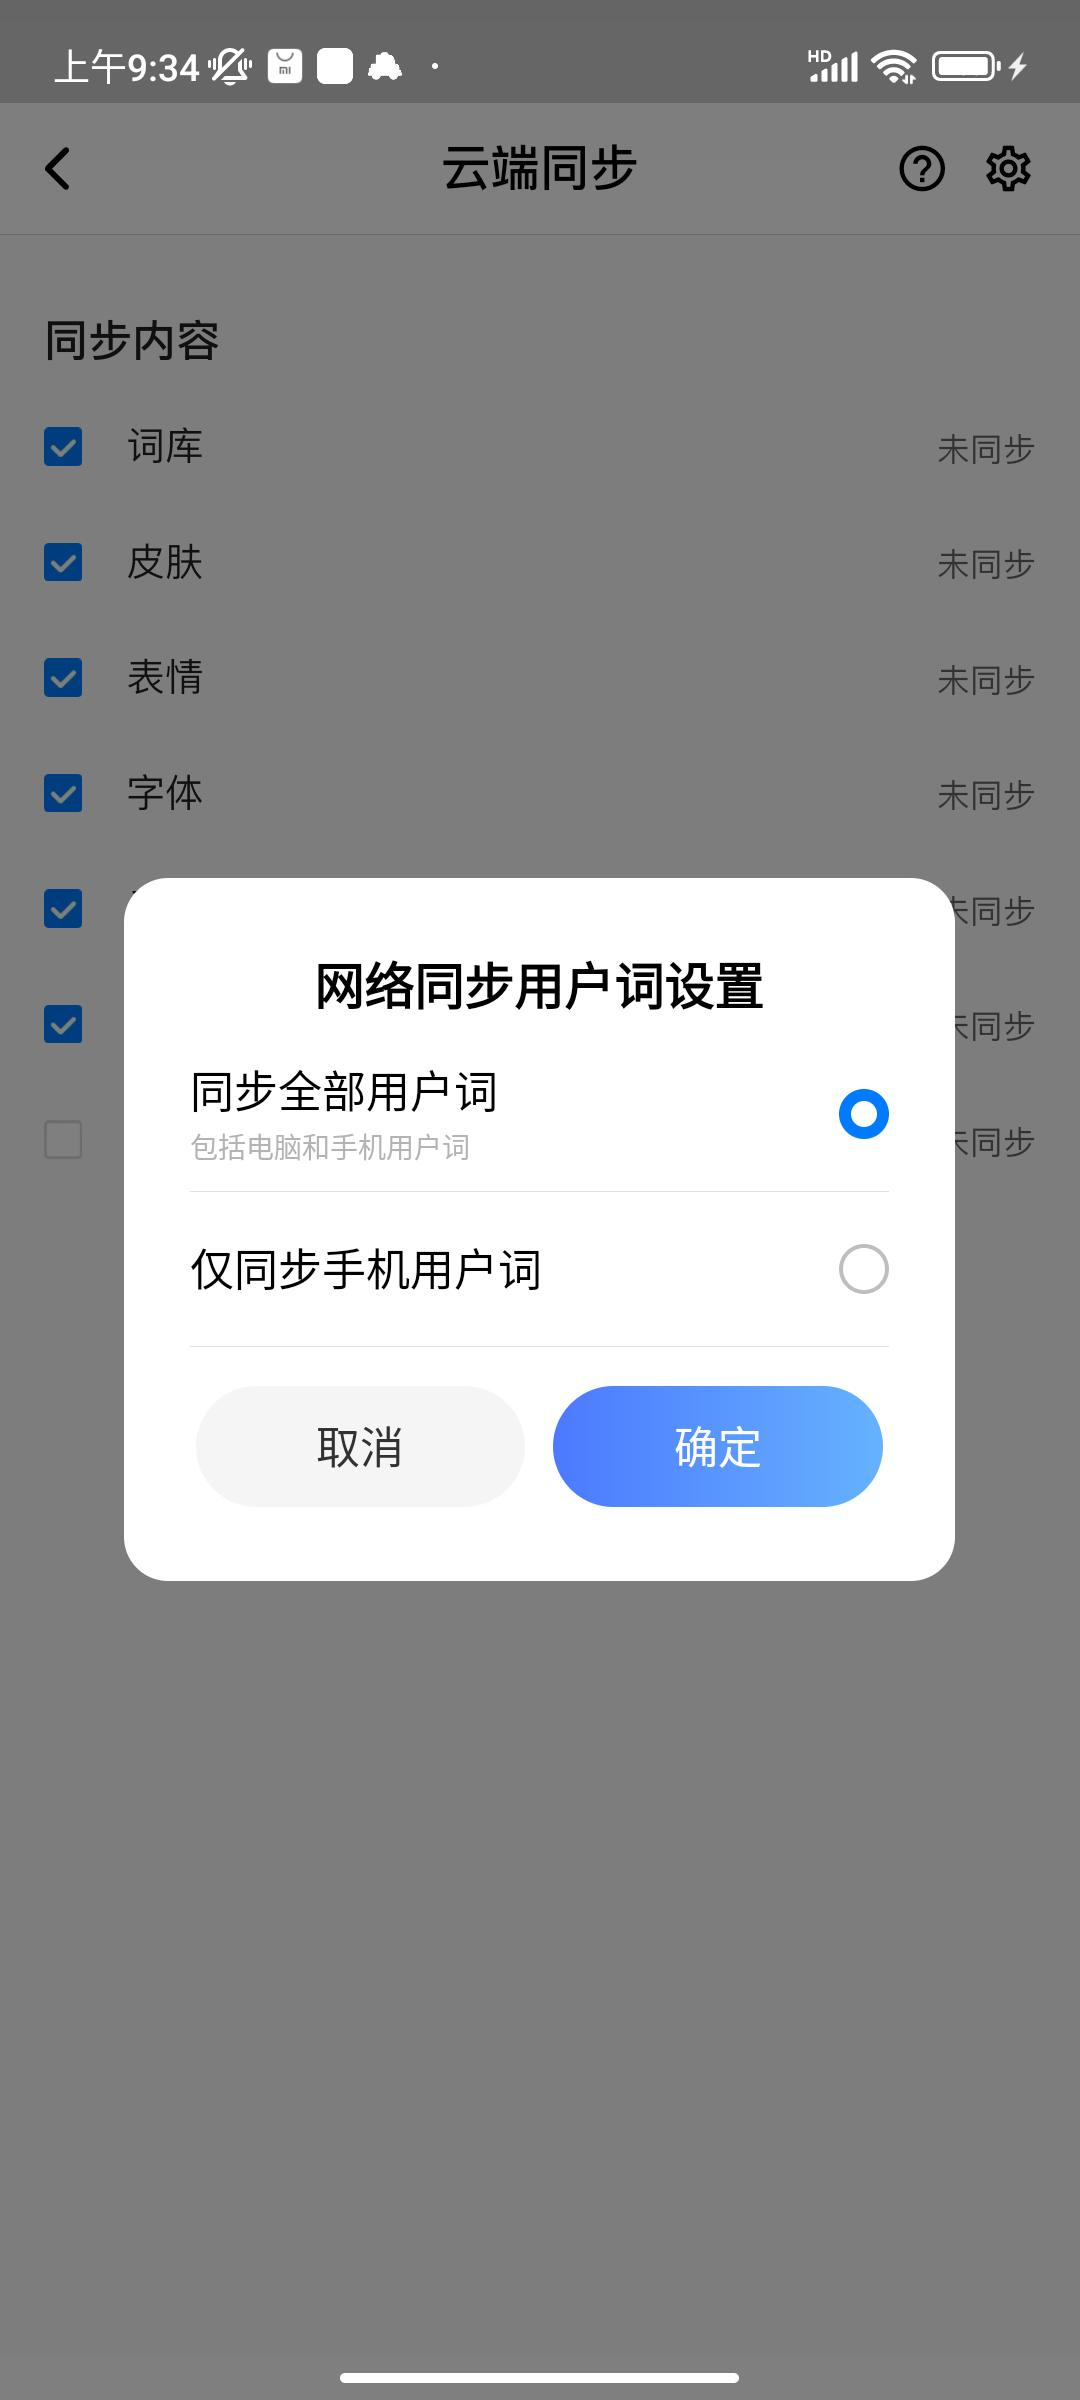ui_group: (125, 879, 958, 1583)
